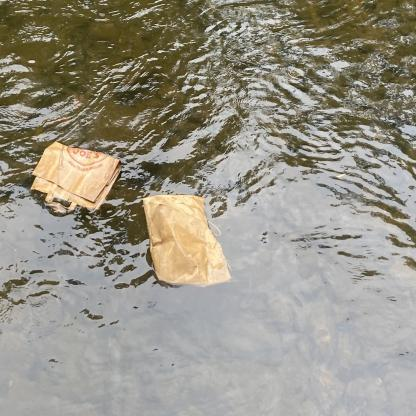trash: (138, 191, 236, 290), (30, 138, 124, 215)
